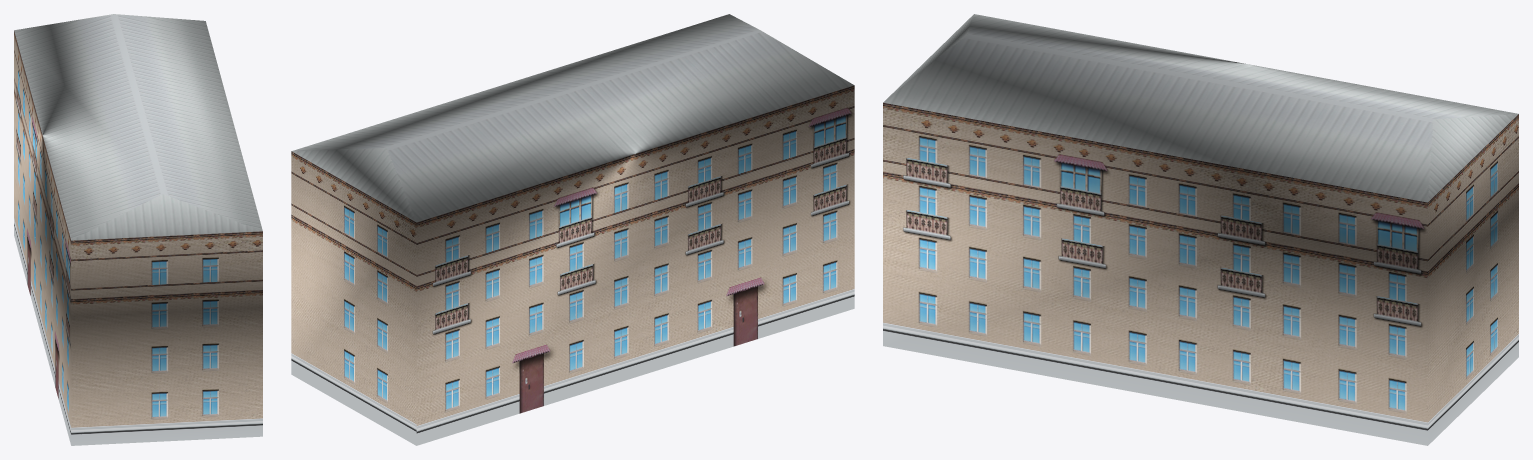
The model's file is lp-building16.fbx.
3 views of the same model, side by side, from view 1: azimuth 30°, elevation 25°; view 2: azimuth 150°, elevation 25°; view 3: azimuth 270°, elevation 25° (orthographic). The views are drawn at different scales.
Visible parts, largest first — view 1: 01houses.022; view 2: 01houses.022; view 3: 01houses.022.
Part boxes in pixels (x1=…): 01houses.022: x1=14, y1=14, x2=262, y2=445; 01houses.022: x1=291, y1=14, x2=854, y2=445; 01houses.022: x1=883, y1=14, x2=1518, y2=445.
Bounding box in the file's own units: 1014 × 689 × 1445.
Materials: 1 (1 with a texture image).
